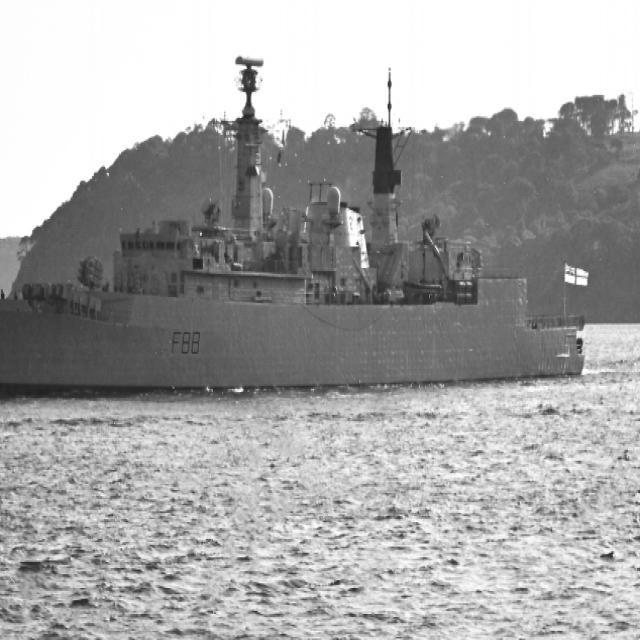Fragata: (1, 52, 593, 408)
